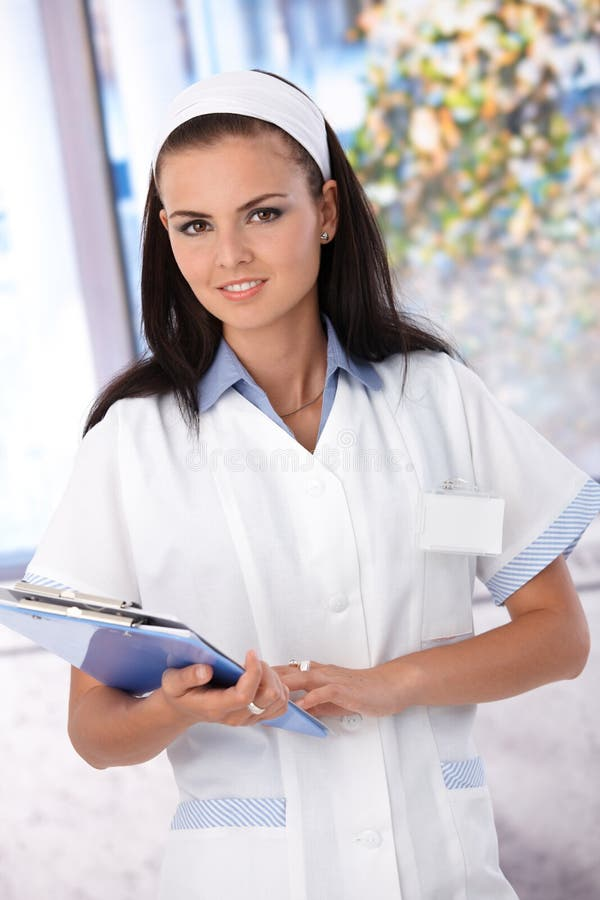Nurse: (22, 51, 591, 838)
